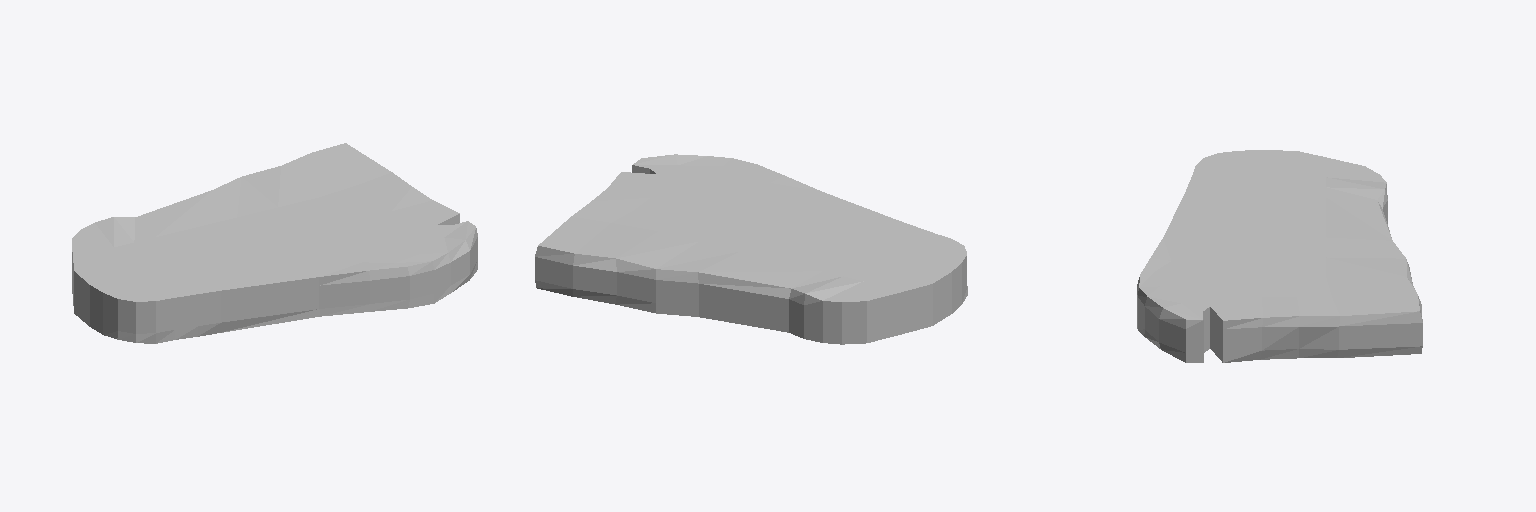
Rendered from steak.obj.
3 views of the same model, side by side, from view 1: azimuth 30°, elevation 25°; view 2: azimuth 150°, elevation 25°; view 3: azimuth 270°, elevation 25° (orthographic).
Parts seen in each view (by area): view 1: Plane; view 2: Plane; view 3: Plane.
Part boxes in pixels (x1,y1,x2,y2): Plane: (72,143,477,343); Plane: (535,154,967,344); Plane: (1137,150,1422,362).
Size of the model in its own units: 8.22 by 1.02 by 5.8.